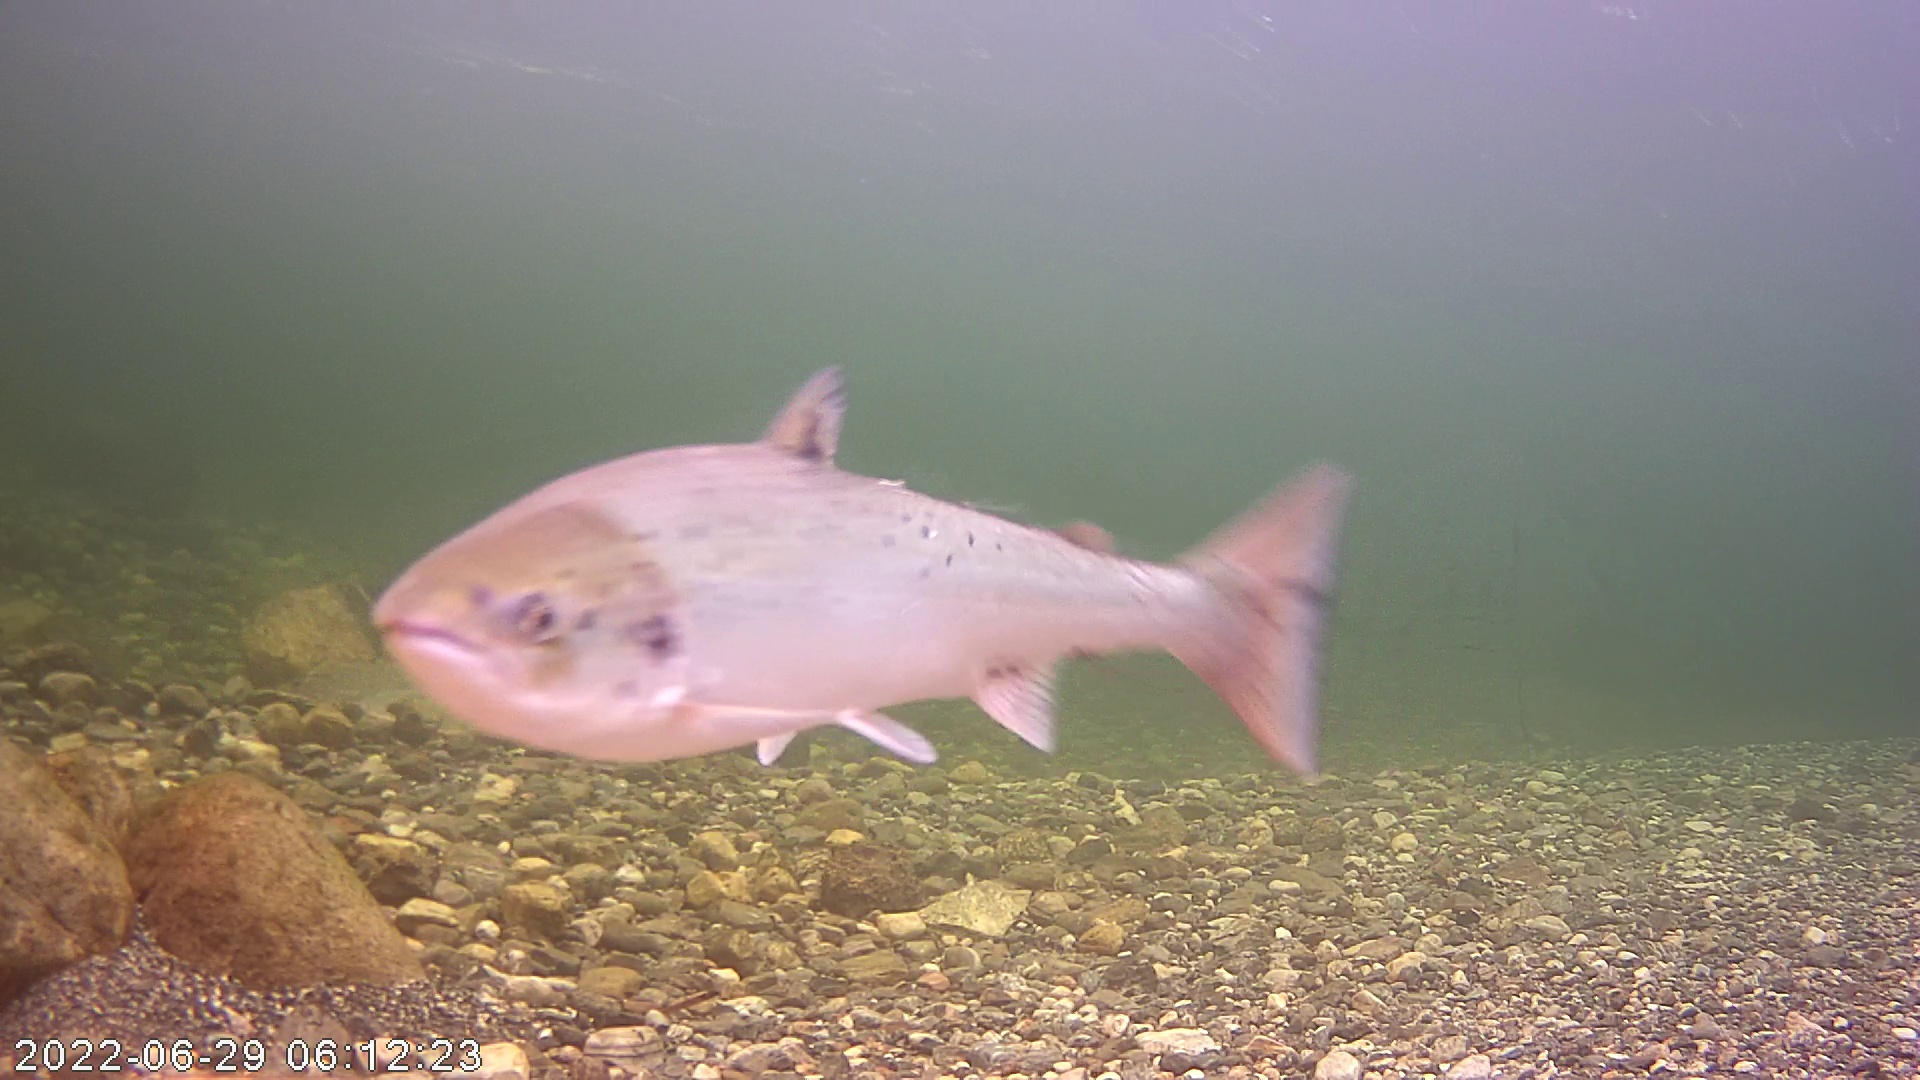salmon: (349, 326, 1356, 796)
